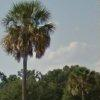Palm tree: (3, 2, 50, 97)
